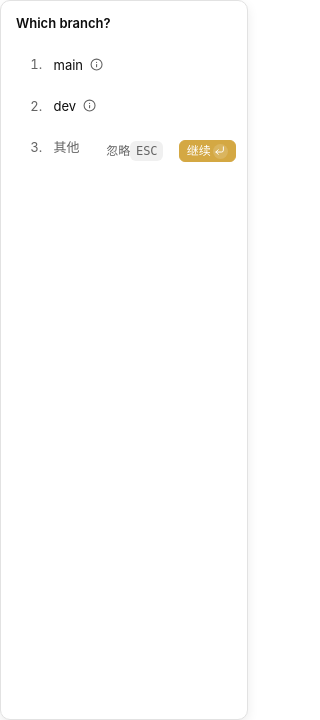
Scenario: PendingActionSurface › shows AskUserQuestion option descriptions in tooltips next to the option text
Step 1. Hover over the button named "Use main branch" → [96, 65], box [89,57,104,72]
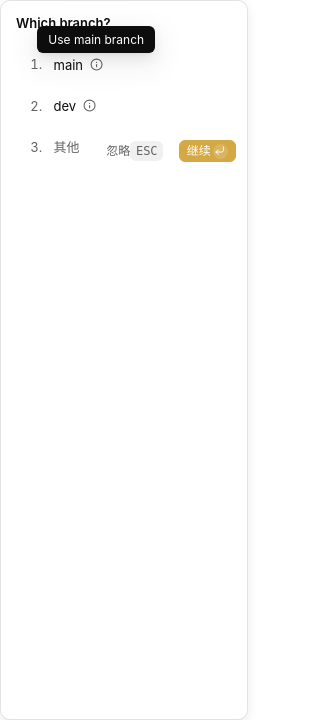
Expected: the tooltip reads "Use main branch", [48,32,144,47]
